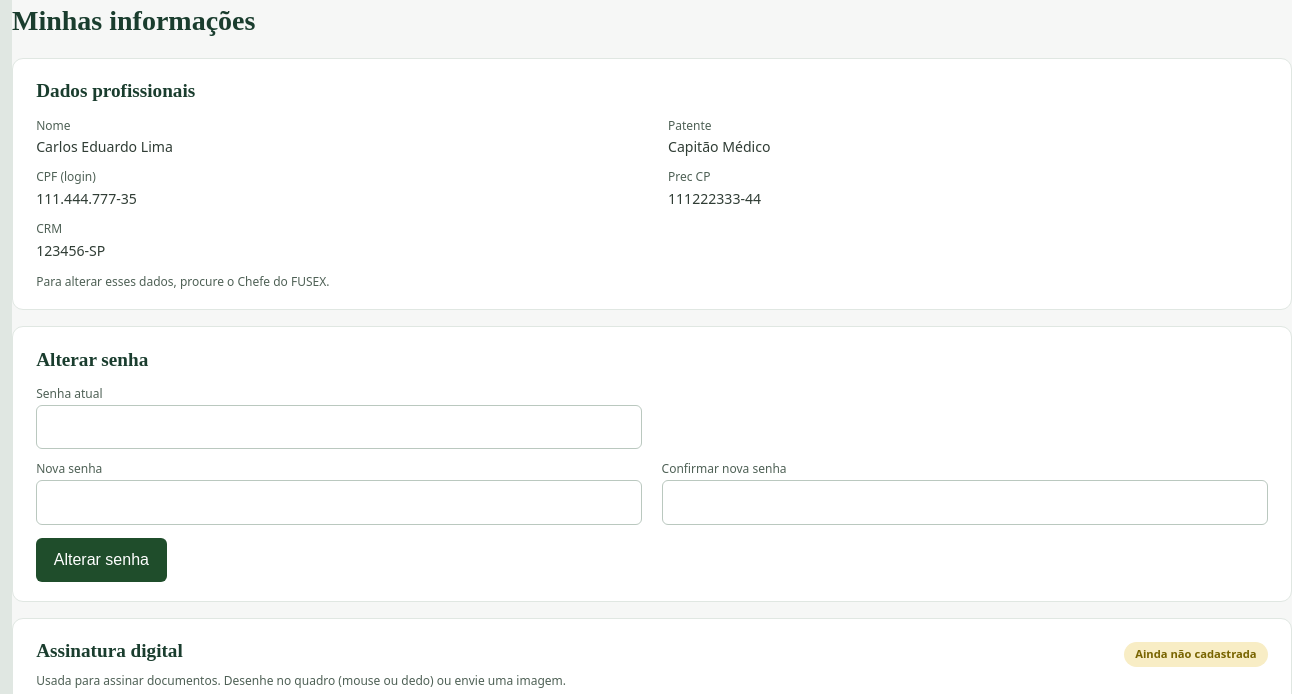
Test: Minhas informações do médico › senha atual errada mostra erro no próprio campo
Type "errada" into the password field labelled "Senha atual" at (339, 427), box [36,405,642,449]
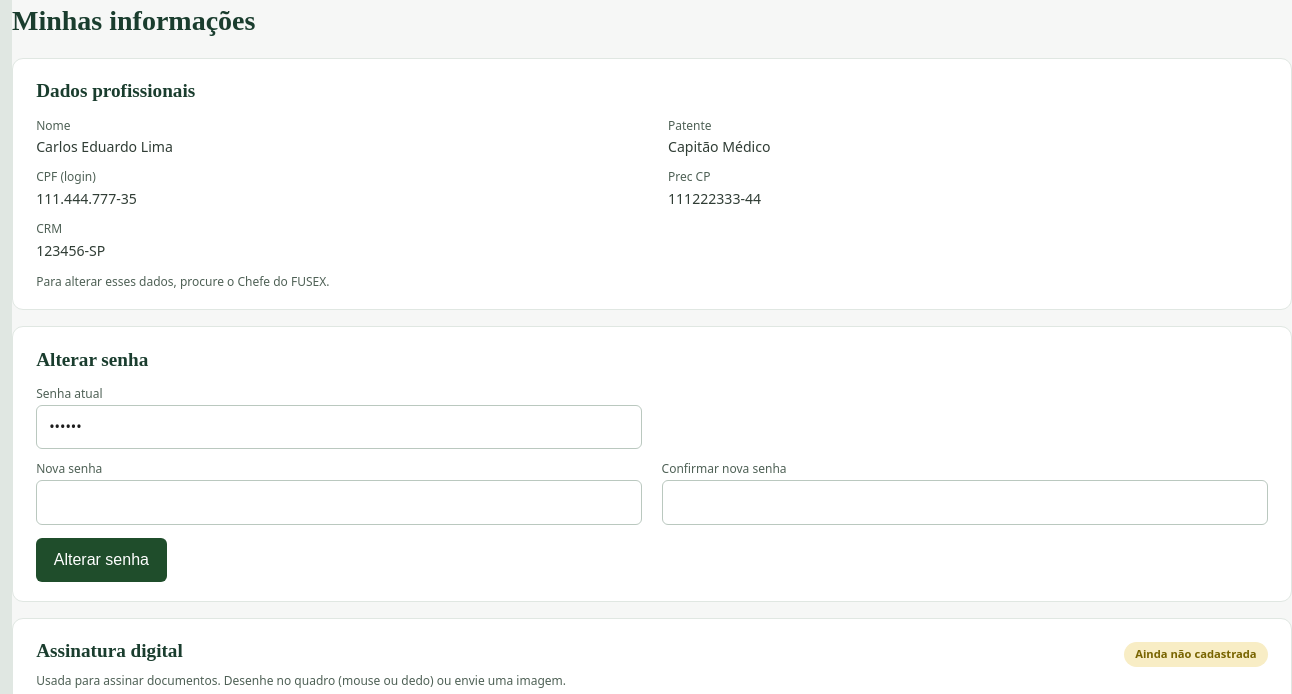
Type "nova12345" into the password field labelled "Nova senha" at (339, 503), box [36,480,642,525]
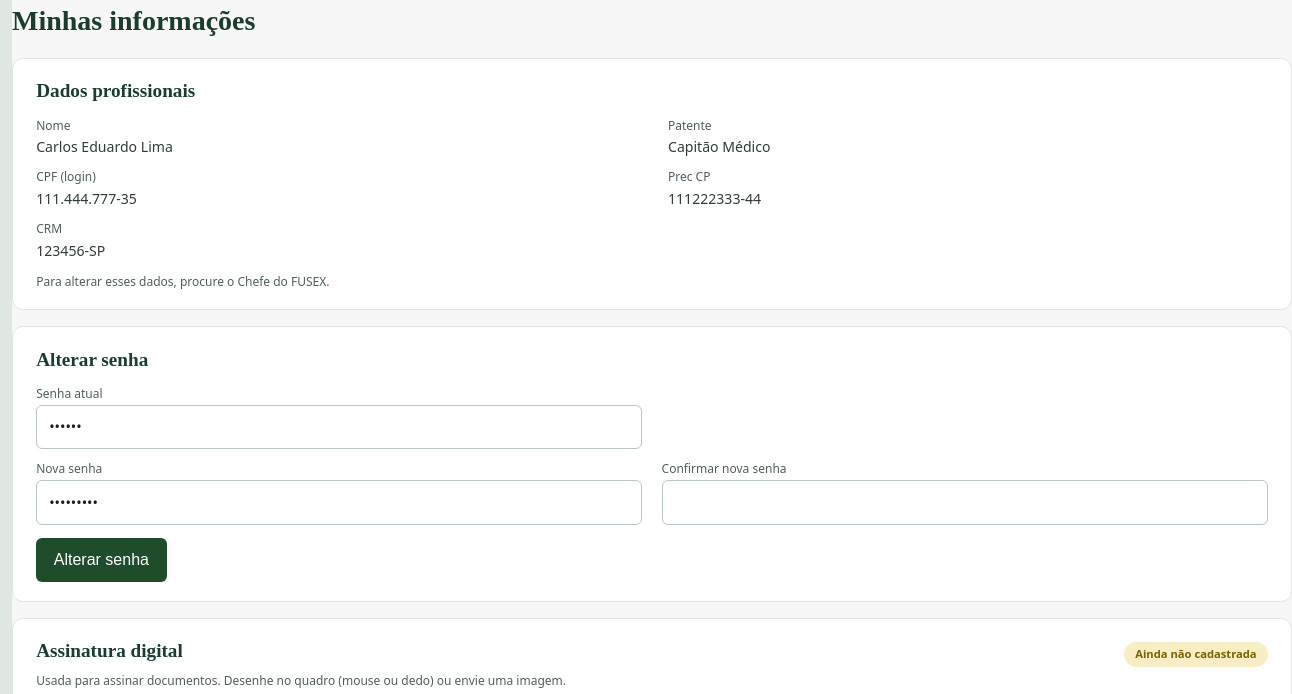
Type "nova12345" into the password field labelled "Confirmar nova senha" at (965, 503), box [662,480,1268,525]
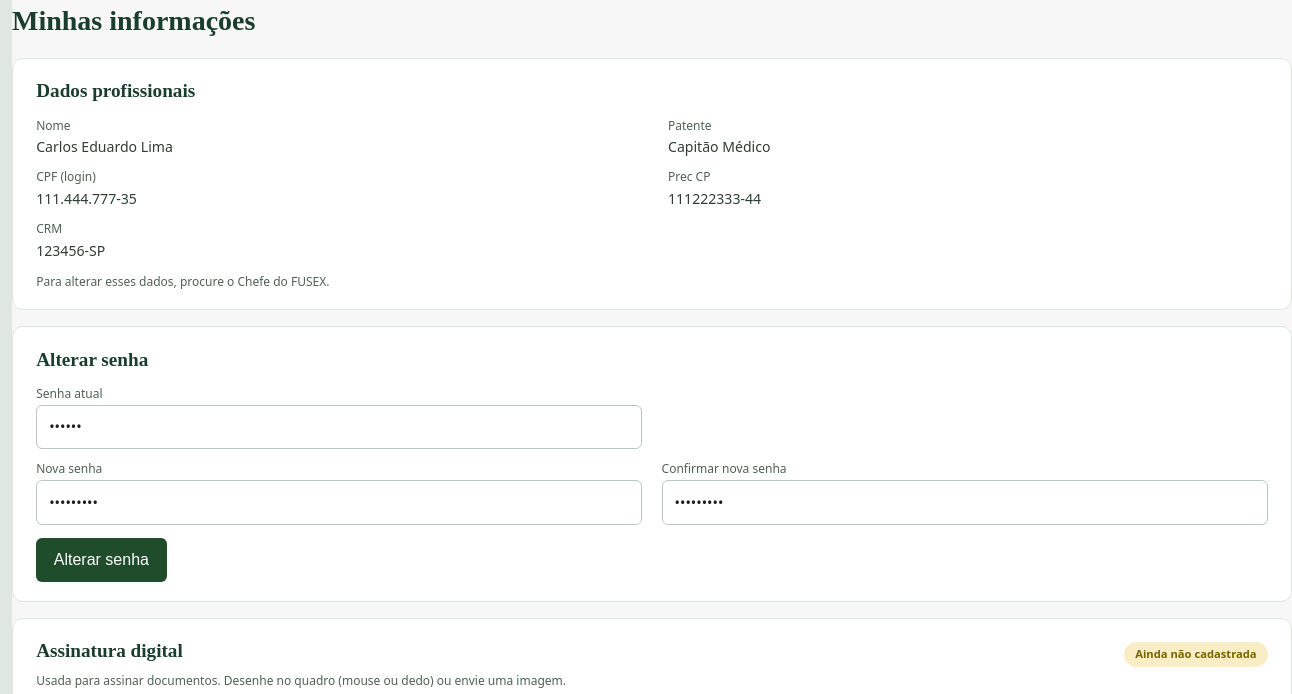
Click the button "Alterar senha" at (101, 560), box [36,538,167,582]
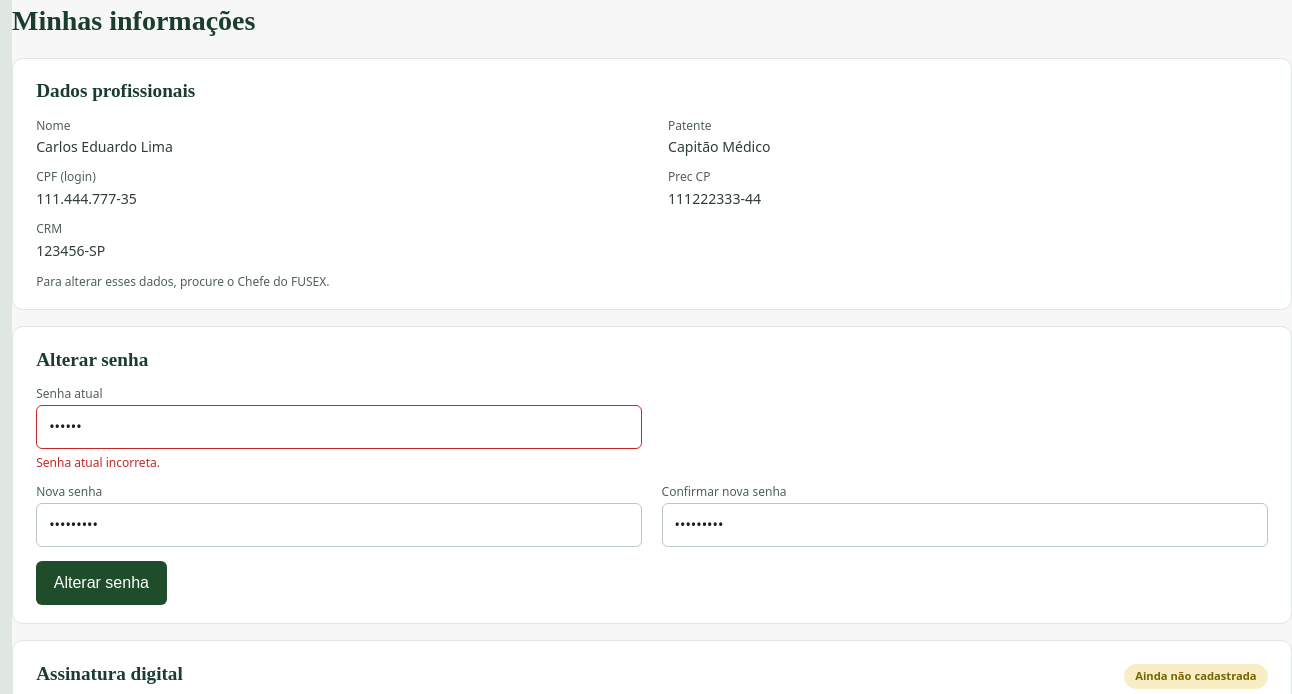
Expected: the text "Senha atual incorreta." is shown, [36,454,160,471]
